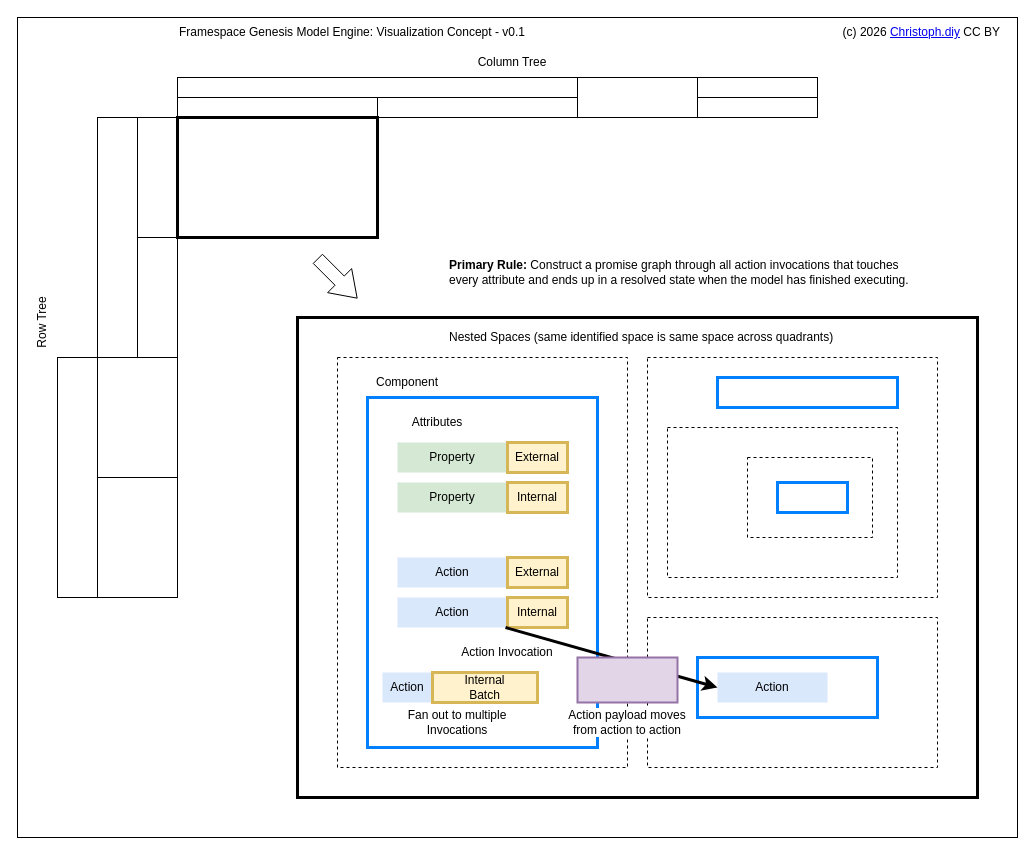
Image size: 1035x855. Some labels were removed from this diagram. The centre of each missing label's shape, as x and y in pixels:
"Action Payload" goes at [627,679].
"Quadrant" goes at [277,177].
